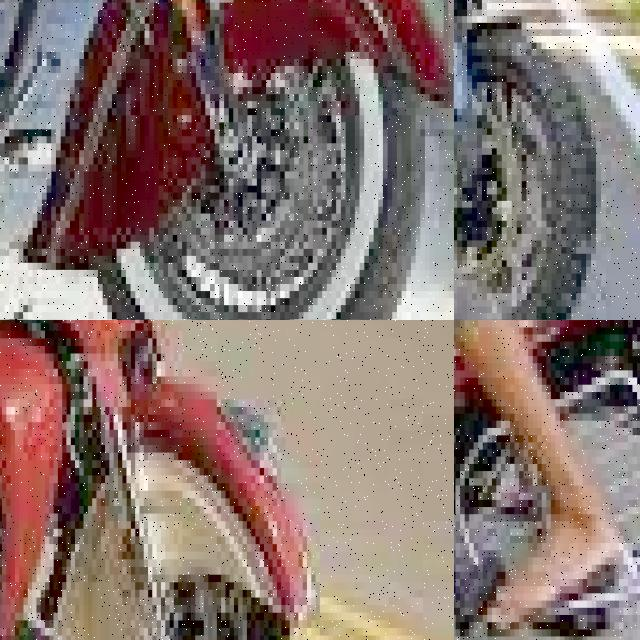bike: (0, 0, 448, 320), (0, 320, 328, 640), (454, 320, 640, 640), (454, 0, 606, 320)
